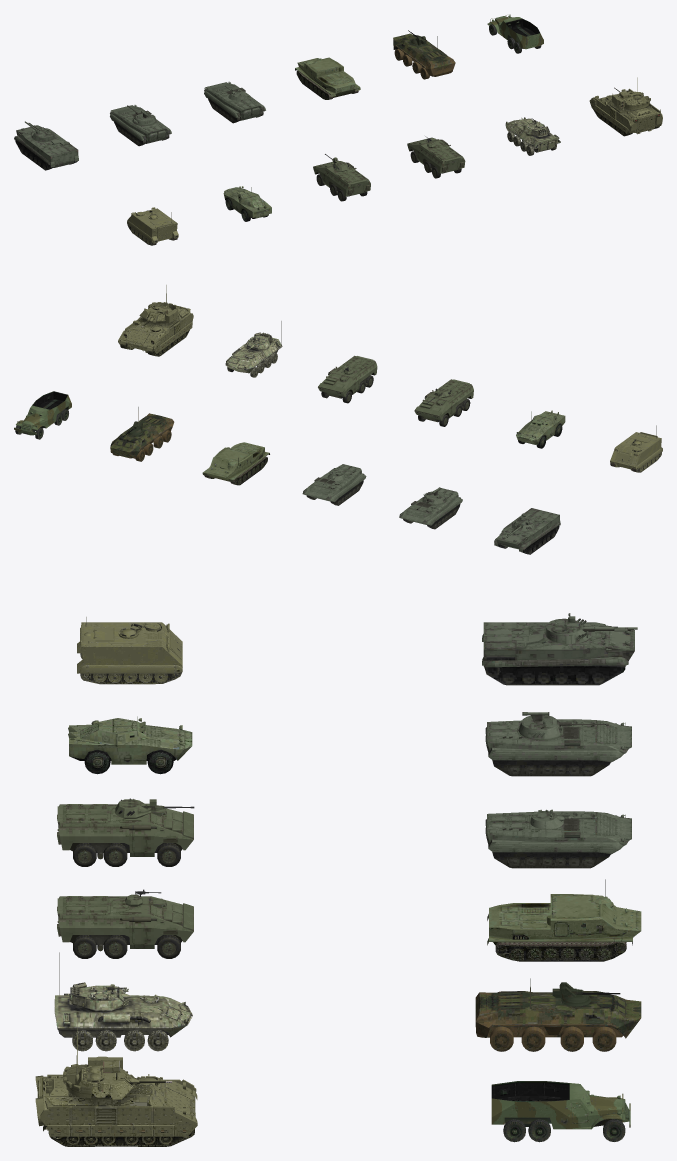
The model's file is industrial_mbt.glb.
The picture shows the model from 3 angles, top to bottom: view 1: azimuth 30°, elevation 25°; view 2: azimuth 150°, elevation 25°; view 3: azimuth 270°, elevation 25°; orthographic projection. The views are drawn at different scales.
Parts seen in each view (by area): view 1: BTR-50PK, M2A2, BTR-80A, BMP-3, BMP-1, EE-11, EE-11_AA, BMP-2, M113, BTR-152, BRDM, LAV-25 (+1 smaller); view 2: M2A2, BTR-50PK, BTR-80A, EE-11, BMP-3, EE-11_AA, BTR-152, M113, BMP-1, BMP-2, LAV-25, BRDM (+1 smaller); view 3: M2A2, BTR-50PK, BTR-80A, BMP-3, EE-11, BMP-1, EE-11_AA, BMP-2, BTR-152, M113, LAV-25, BRDM (+4 smaller).
Part boxes in pixels (x1=…): BTR-50PK: x1=295, y1=57, x2=360, y2=99; M2A2: x1=589, y1=88, x2=662, y2=136; BTR-80A: x1=393, y1=33, x2=455, y2=79; BMP-3: x1=14, y1=125, x2=78, y2=170; BMP-1: x1=204, y1=81, x2=265, y2=123; EE-11: x1=407, y1=137, x2=465, y2=178; EE-11_AA: x1=313, y1=160, x2=370, y2=201; BMP-2: x1=110, y1=105, x2=171, y2=146; M113: x1=127, y1=207, x2=178, y2=245; BTR-152: x1=487, y1=14, x2=543, y2=53; BRDM: x1=223, y1=186, x2=271, y2=221; LAV-25: x1=505, y1=117, x2=560, y2=155; M2A2: x1=118, y1=306, x2=193, y2=356; BTR-50PK: x1=202, y1=442, x2=269, y2=485; BTR-80A: x1=110, y1=407, x2=174, y2=461; EE-11: x1=318, y1=355, x2=377, y2=403; BMP-3: x1=494, y1=508, x2=560, y2=554; EE-11_AA: x1=414, y1=379, x2=473, y2=426; BTR-152: x1=14, y1=391, x2=71, y2=439; M113: x1=610, y1=425, x2=662, y2=472; BMP-1: x1=302, y1=464, x2=366, y2=505; BMP-2: x1=399, y1=488, x2=462, y2=529; LAV-25: x1=225, y1=321, x2=282, y2=377; BRDM: x1=516, y1=410, x2=565, y2=448; M2A2: x1=35, y1=1074, x2=197, y2=1146; BTR-50PK: x1=487, y1=879, x2=641, y2=961; BTR-80A: x1=475, y1=978, x2=641, y2=1051; BMP-3: x1=482, y1=622, x2=634, y2=685; EE-11: x1=57, y1=896, x2=193, y2=958; BMP-1: x1=485, y1=811, x2=631, y2=868; EE-11_AA: x1=57, y1=804, x2=193, y2=866; BMP-2: x1=485, y1=719, x2=631, y2=776; BTR-152: x1=491, y1=1081, x2=630, y2=1142; M113: x1=77, y1=617, x2=182, y2=684; LAV-25: x1=54, y1=952, x2=192, y2=1051; BRDM: x1=68, y1=716, x2=192, y2=774.
Bounding box in the file's own units: 8 × 0.9084 × 4.17.
29 materials, 29 textured.
